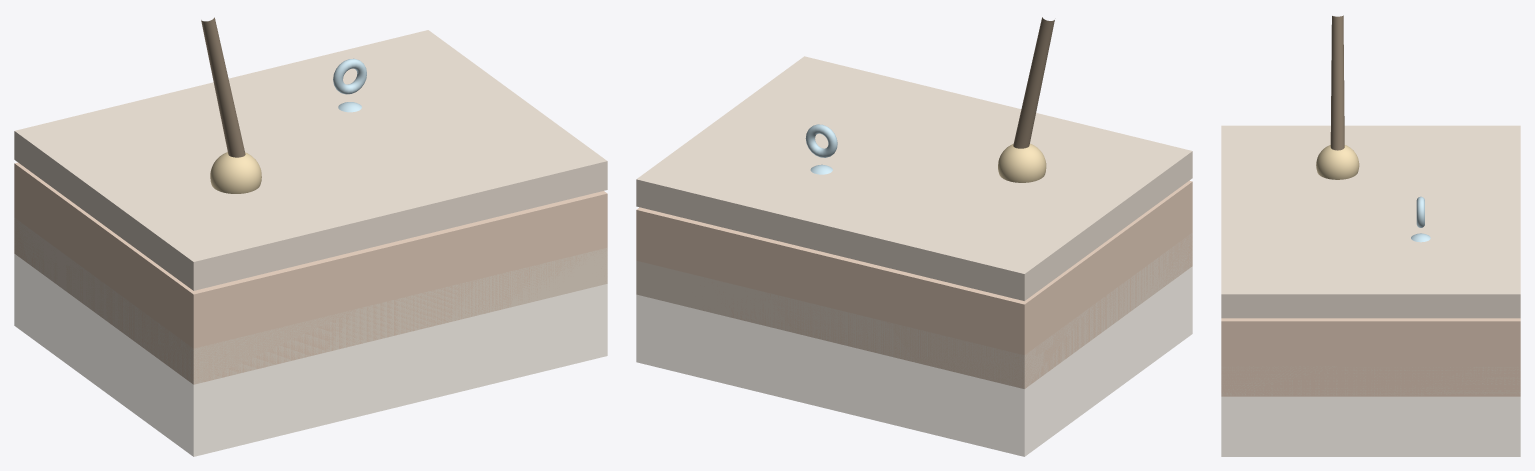
File: skin.glb
3 renders of one model, left to right at view 1: azimuth 30°, elevation 25°; view 2: azimuth 150°, elevation 25°; view 3: azimuth 270°, elevation 25°, orthographic. The views are drawn at different scales.
Visible parts, largest first — view 1: epidermis, hypodermis, dermis, hair_shaft, sebaceous_gland, sweat_duct; view 2: epidermis, hypodermis, dermis, hair_shaft, sebaceous_gland, sweat_duct; view 3: epidermis, dermis, hypodermis, hair_shaft, sebaceous_gland.
Part boxes in pixels (box(x1,y1,x2,y2)): epidermis: box(14, 30, 607, 290); hypodermis: box(14, 218, 607, 456); dermis: box(14, 162, 607, 384); hair_shaft: box(201, 17, 245, 157); sebaceous_gland: box(210, 152, 261, 193); sweat_duct: box(333, 58, 366, 94); epidermis: box(636, 56, 1192, 300); hypodermis: box(636, 233, 1192, 456); dermis: box(636, 180, 1192, 388); hair_shaft: box(1013, 17, 1054, 148); sebaceous_gland: box(998, 143, 1046, 182); sweat_duct: box(805, 124, 837, 157); epidermis: box(1221, 125, 1520, 318); dermis: box(1221, 318, 1520, 396); hypodermis: box(1221, 366, 1520, 456); hair_shaft: box(1330, 15, 1344, 150); sebaceous_gland: box(1316, 145, 1359, 179).
Bounding box in the file's own units: 1.32 × 1.13 × 0.9915.
